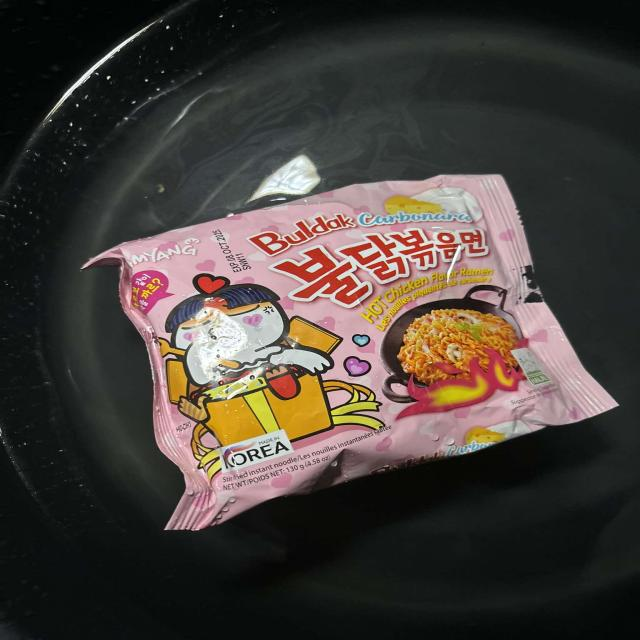Plastic Wrapper: (92, 169, 630, 548)
